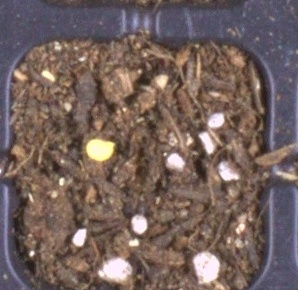chilli seed: (85, 138, 116, 162)
